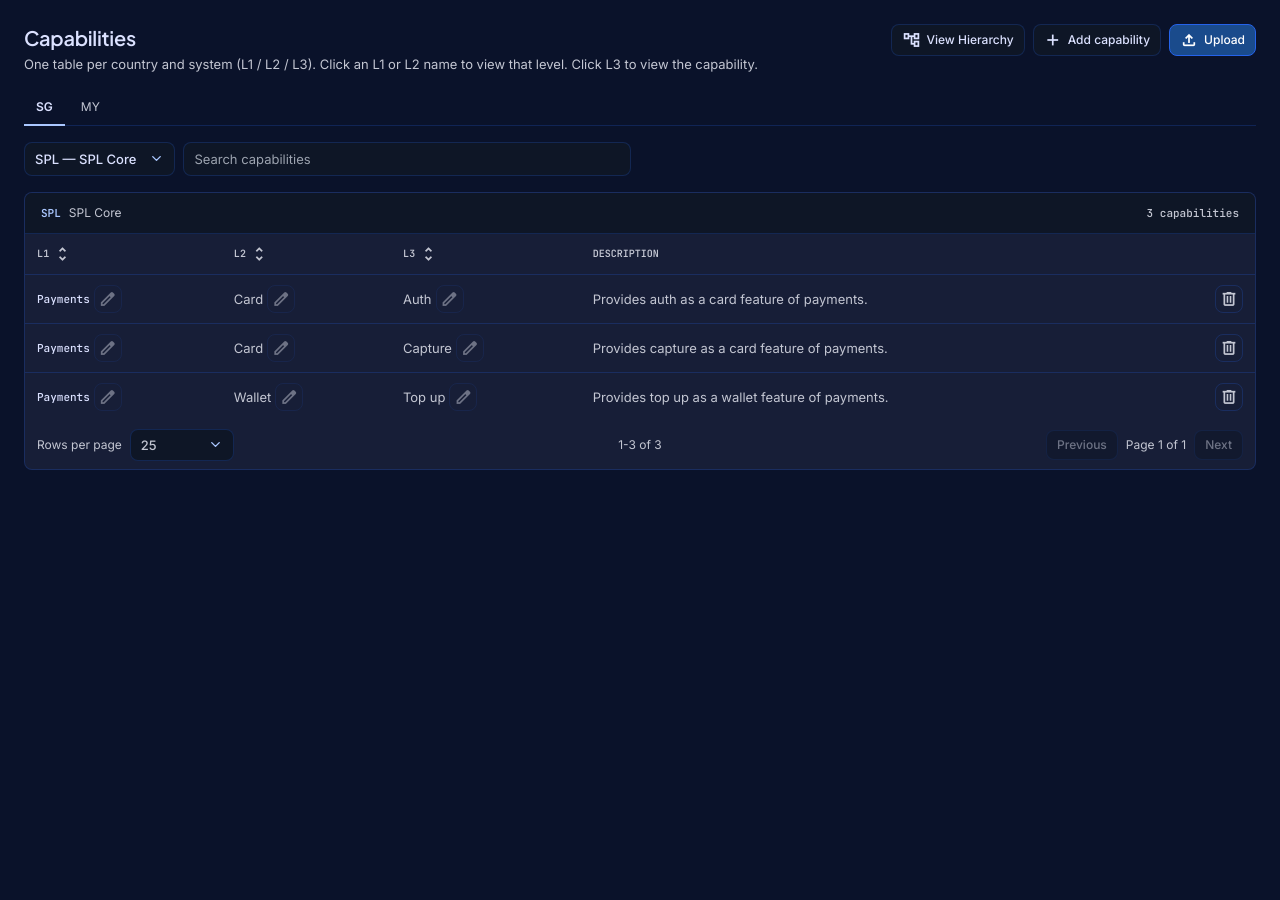
Test case: the table's L1 and L2 info buttons open the details window, the row still opens L3
Click the 1st button named "L2 details: Card" at (281, 299), box [267,285,295,313]
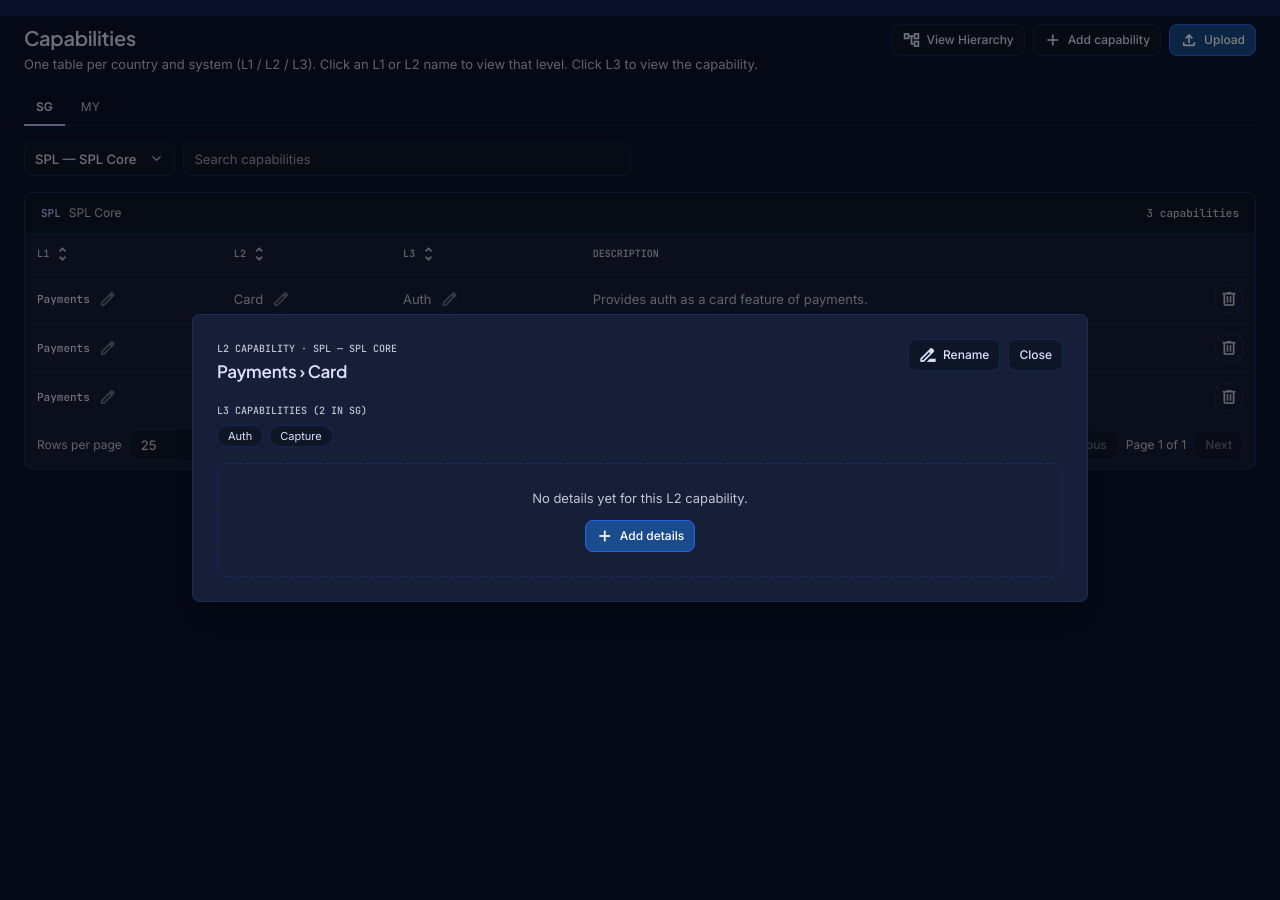
Check: the heading "Payments › Card" is shown, box [217,360,347,382]
Check: the button "Rename" is shown, box [908,339,1000,371]
